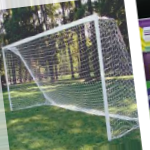goals: (3, 12, 138, 139)
